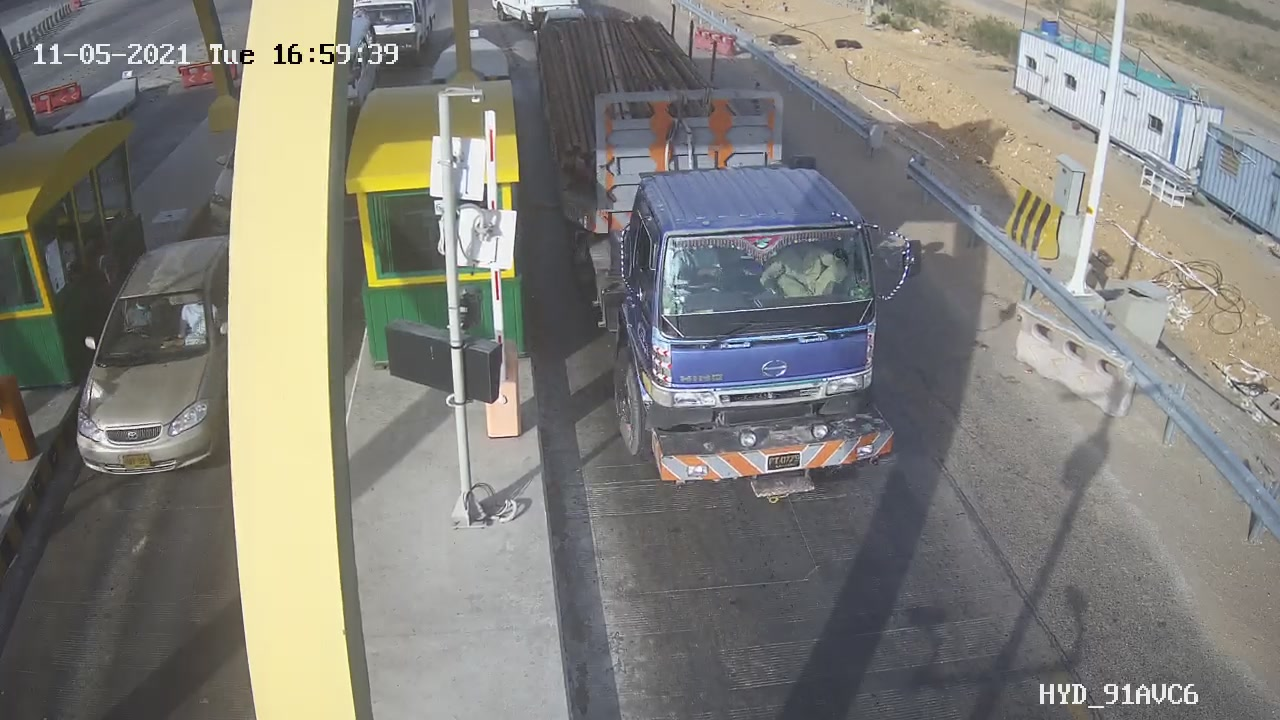F6: (522, 1, 944, 533)
